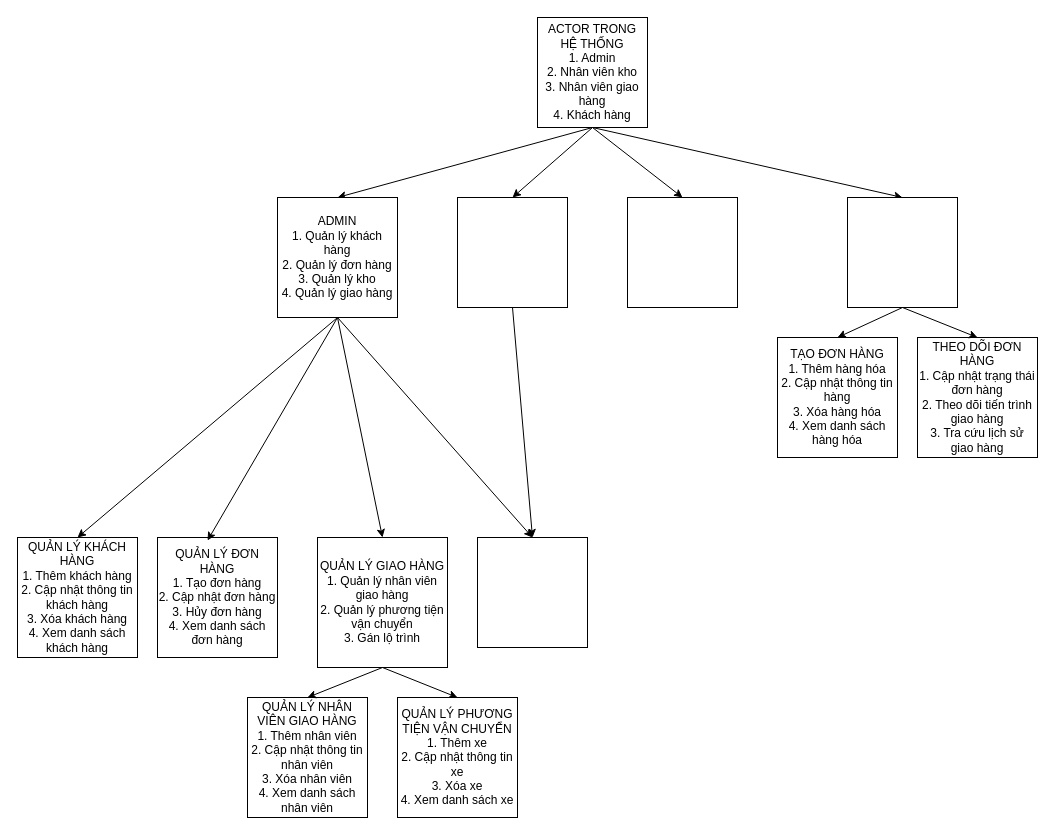
The diagram is 1055 pixels wide and 835 high, and some of its shapes have lost their labels. The shapes that lost their labels are listed below. From the top down, each one's box as (x1, y1, x2, y2) in pixels, then its label:
(456, 196, 568, 308): NHÂN VIÊN KHO 1. Nhập/ Xuất kho 2. Kiểm tra tồn kho
(626, 196, 738, 308): NHÂN VIÊN GIAO HÀNG 1. Nhận đơn hàng 2. Cập nhật trạng thái giao hàng
(846, 196, 958, 308): KHÁCH HÀNG 1. Tạo đơn hàng 2. Theo dõi đơn hàng
(476, 536, 588, 648): QUẢN LÝ KHO 1. Nhập hàng vào kho 2. Xuất hàng khỏi kho 3. Kiểm tra tồn kho
